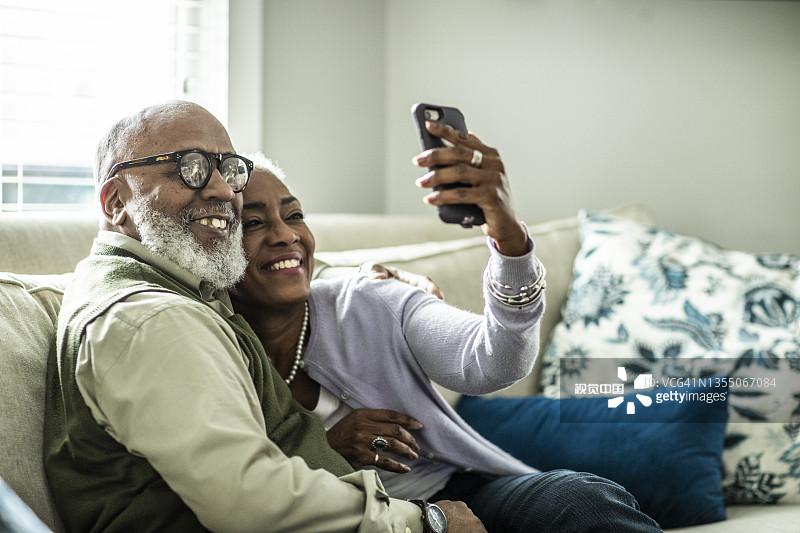no-phone: (321, 403, 451, 481)
taking photos: (391, 100, 532, 241)
